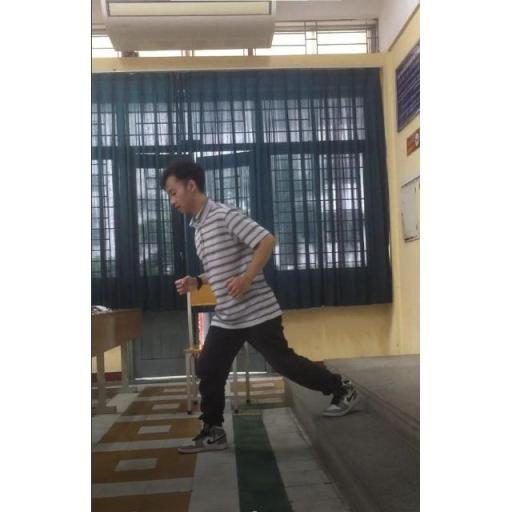Running: (167, 154, 364, 458)
